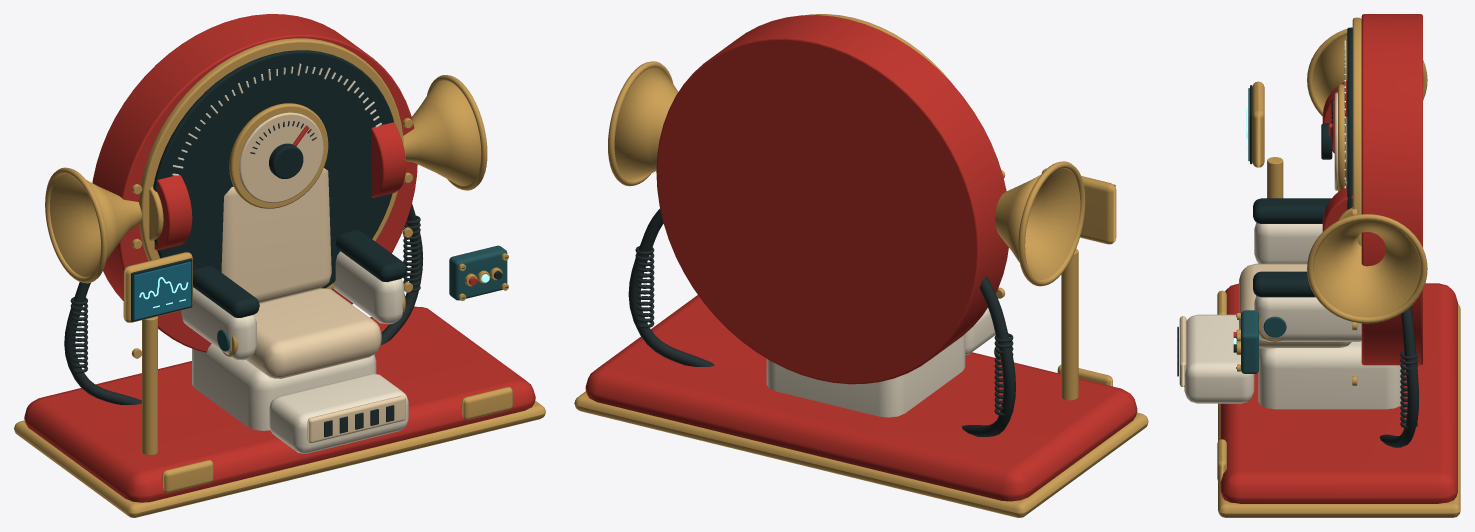
The model's file is echo.glb.
The picture shows the model from 3 angles, left to right: view 1: azimuth 30°, elevation 25°; view 2: azimuth 150°, elevation 25°; view 3: azimuth 270°, elevation 25°; orthographic projection. The views are drawn at different scales.
Visible parts, largest first — view 1: red.002, brass.002, dark.002, leather.002, ivory.002, rubber.002, display.002, teal.002, paper.002; view 2: red.002, brass.002, ivory.002, rubber.002; view 3: red.002, brass.002, ivory.002, dark.002, leather.002, rubber.002, teal.002.
Part boxes in pixels (x1,y1,x2,y2): red.002: [24, 14, 535, 502]; brass.002: [14, 38, 545, 517]; dark.002: [131, 50, 507, 321]; leather.002: [221, 112, 405, 443]; ivory.002: [181, 251, 408, 453]; rubber.002: [64, 204, 423, 437]; display.002: [134, 261, 191, 319]; teal.002: [217, 245, 507, 351]; paper.002: [172, 63, 381, 175]; red.002: [585, 15, 1137, 501]; brass.002: [574, 14, 1148, 517]; ivory.002: [766, 308, 995, 417]; rubber.002: [628, 208, 1015, 436]; red.002: [1220, 14, 1457, 503]; brass.002: [1217, 17, 1460, 517]; ivory.002: [1184, 222, 1401, 409]; dark.002: [1233, 27, 1352, 368]; leather.002: [1179, 92, 1351, 386]; rubber.002: [1177, 306, 1418, 447]; teal.002: [1241, 310, 1286, 373].
Bounding box in the file's own units: 1.76 × 1.53 × 1.02.
